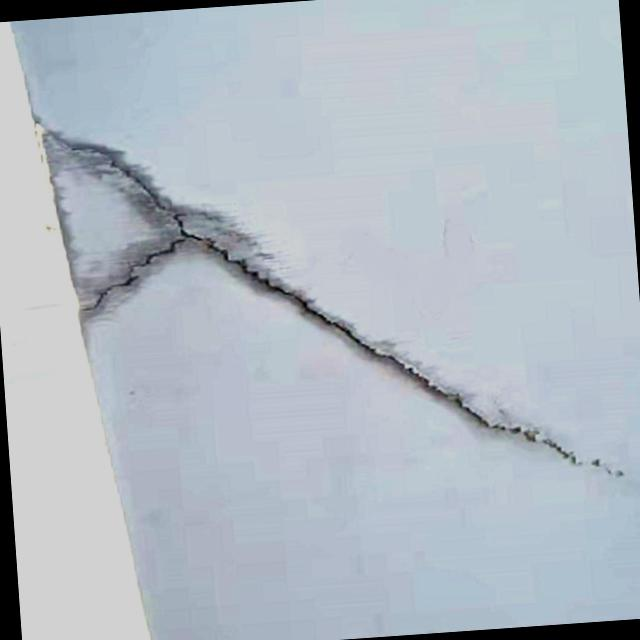crack: (35, 78, 593, 499)
